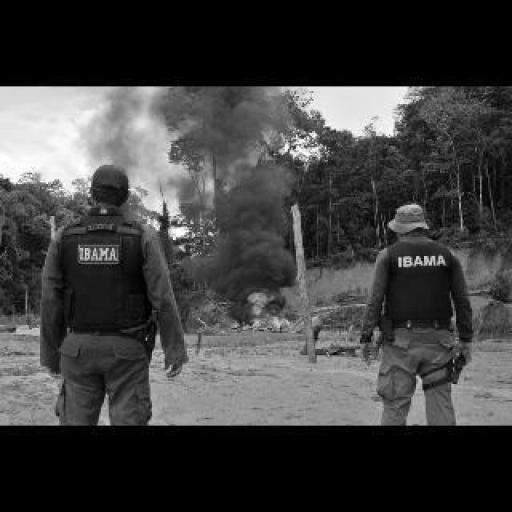smoke: (232, 292, 286, 326)
